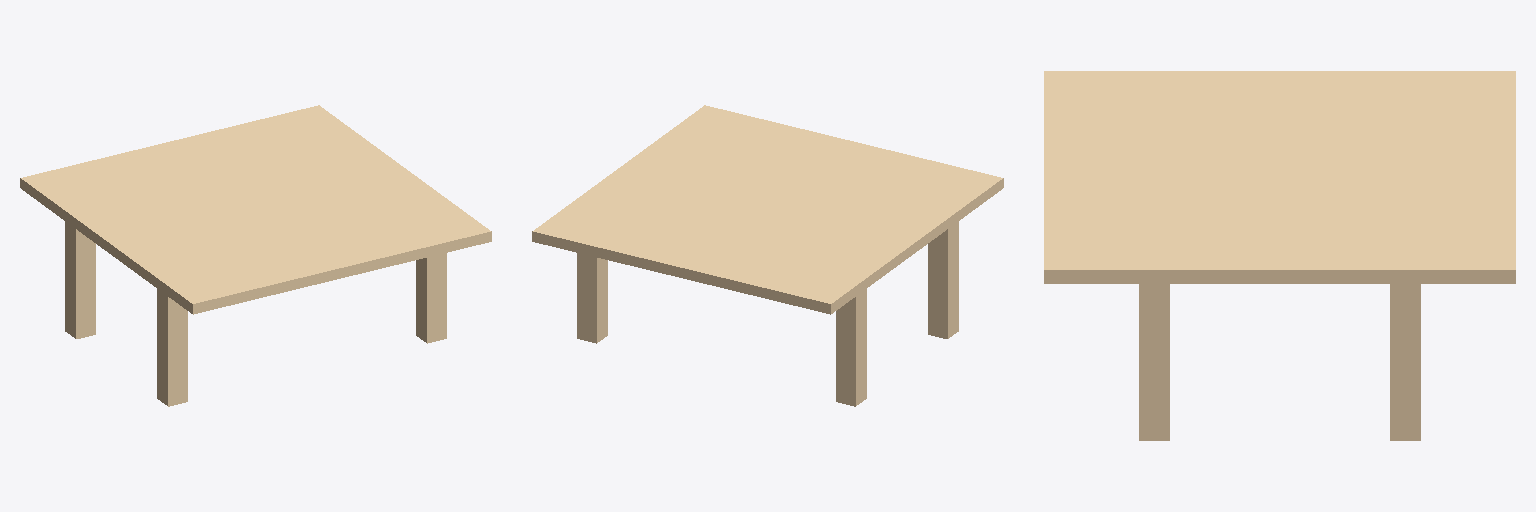
URDF robot description (table.urdf):
<?xml version="1.0" ?>
<robot name="table.urdf">

  <material name="WoodBrown">
    <color rgba="1.0 0.9 0.75 1.0"/>
  </material>

  <link name="baseLink">
    <contact>
      <lateral_friction value="1.0"/>
    </contact>

    <inertial>
      <origin rpy="0 0 0" xyz="0 0 0"/>
       <mass value=".0"/>
       <inertia ixx="1" ixy="0" ixz="0" iyy="1" iyz="0" izz="1"/>
    </inertial>

    <visual>
      <origin rpy="0 0 0" xyz="0 0 0.6"/>
      <geometry>
				<!-- <mesh filename="table.obj" scale="1.5 1 0.05"/> -->
        <box size="1.5 1.5 0.05"/>
      </geometry>
       <material name="WoodBrown"/>
    </visual>

    <collision>
      <origin rpy="0 0 0" xyz="0 0 0.6"/>
      <geometry>
    	 	<box size="1.5 1 0.05"/>
      </geometry>
    </collision>

	  <visual>
      <origin rpy="0 0 0" xyz="-0.65 -0.4 0.29"/>
      <geometry>
  	    <!-- <mesh filename="table.obj" scale="0.1 0.1 0.58"/> -->
        <box size="0.1 0.1 0.58"/>
      </geometry>
      <material name="WoodBrown"/>
    </visual>

    <visual>
      <origin rpy="0 0 0" xyz="-0.65 0.4 0.29"/>
      <geometry>
        <!-- <mesh filename="table.obj" scale="0.1 0.1 0.58"/> -->
        <box size="0.1 0.1 0.58"/>
      </geometry>
      <material name="WoodBrown"/>
	  </visual>

    <visual>
      <origin rpy="0 0 0" xyz="0.65 -0.4 0.29"/>
      <geometry>
        <!-- <mesh filename="table.obj" scale="0.1 0.1 0.58"/> -->
        <box size="0.1 0.1 0.58"/>
      </geometry>
      <material name="WoodBrown"/>
	  </visual>

    <visual>
      <origin rpy="0 0 0" xyz="0.65 0.4 0.29"/>
      <geometry>
        <!-- <mesh filename="table.obj" scale="0.1 0.1 0.58"/> -->
        <box size="0.1 0.1 0.58"/>
      </geometry>
      <material name="WoodBrown"/>
    </visual>

  </link>
</robot>

--- Facts derived from the render (not from the file) ---
The picture shows the robot from 3 angles, left to right: view 1: azimuth 30°, elevation 25°; view 2: azimuth 150°, elevation 25°; view 3: azimuth 270°, elevation 25°; orthographic projection.
Robot: table.urdf — 1 links, 0 joints (none); root link baseLink; default pose: every joint at zero.
Visible links, largest first — view 1: baseLink; view 2: baseLink; view 3: baseLink.
Link boxes in pixels (<box>): baseLink: <box>20,105,491,406</box>; baseLink: <box>532,105,1003,406</box>; baseLink: <box>1044,71,1515,440</box>.
Size in the robot's own frame: 1.5 by 1.5 by 0.625 metres.
Geometry: primitives only (box / cylinder / sphere), no mesh files.
